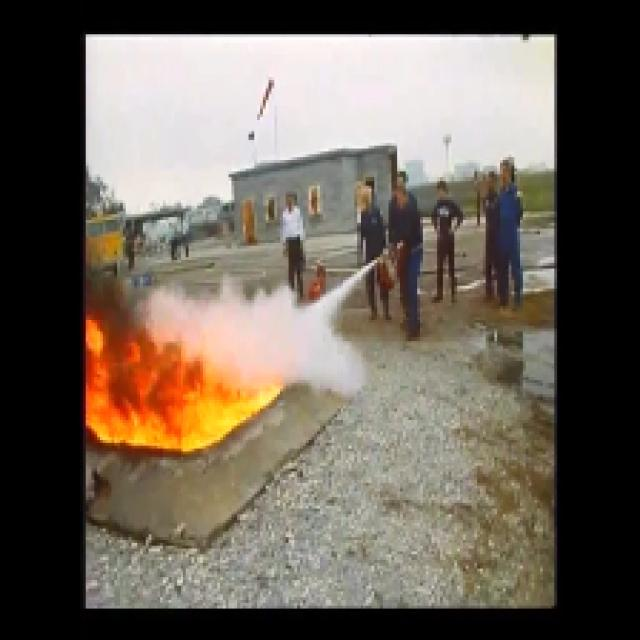fire: (87, 318, 243, 454)
